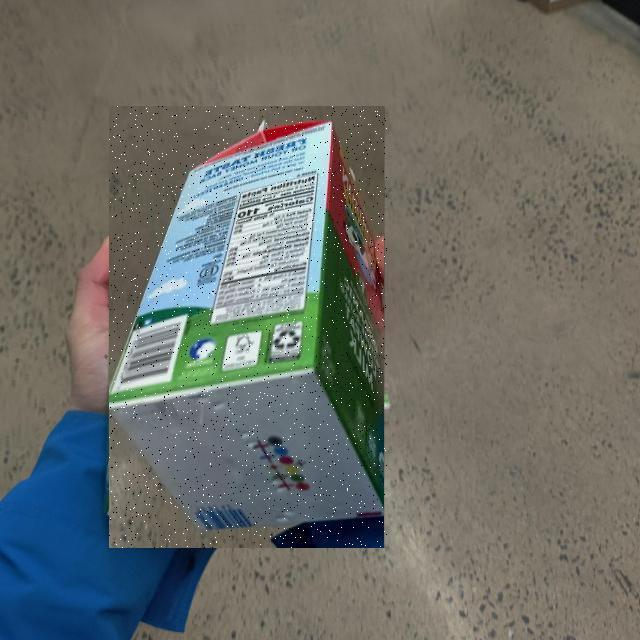Milk: (110, 107, 388, 549)
